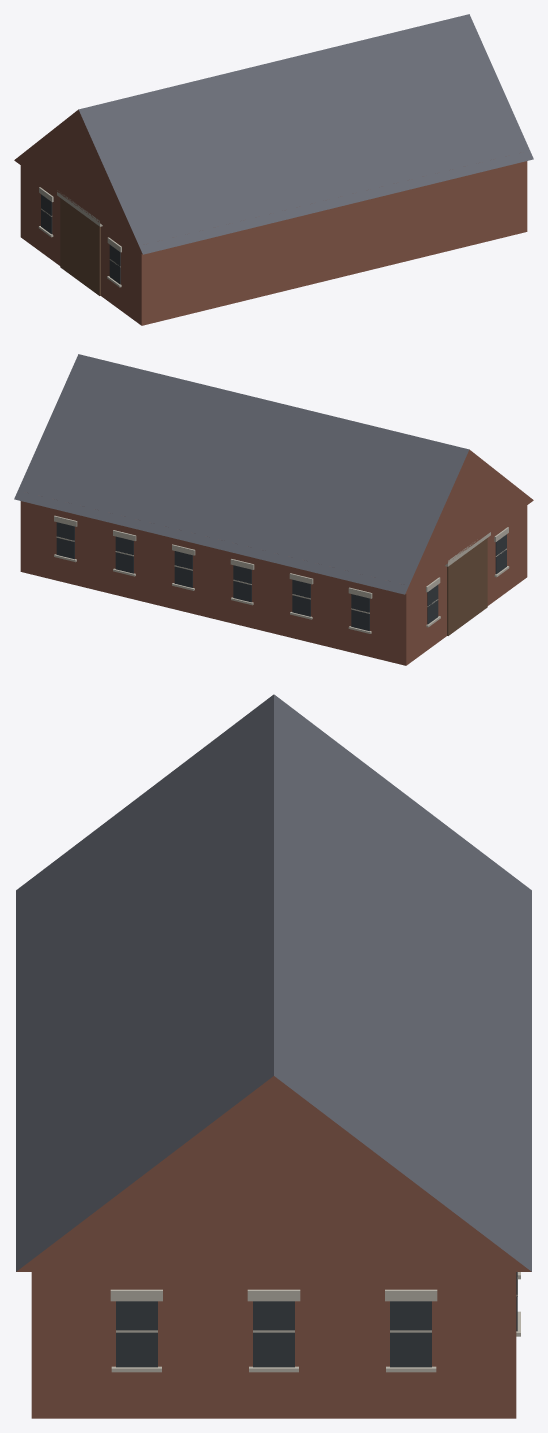
File: kellogg_house_1709_prairie_coach_house__draft_1904.glb
The picture shows the model from 3 angles, top to bottom: view 1: azimuth 30°, elevation 25°; view 2: azimuth 150°, elevation 25°; view 3: azimuth 270°, elevation 25°; orthographic projection. The views are drawn at different scales.
Visible parts, largest first — view 1: kellogg_house_1709_prairie_coach_house__draft_1904; view 2: kellogg_house_1709_prairie_coach_house__draft_1904; view 3: kellogg_house_1709_prairie_coach_house__draft_1904.
Part boxes in pixels (x1=…): kellogg_house_1709_prairie_coach_house__draft_1904: x1=14, y1=14, x2=533, y2=325; kellogg_house_1709_prairie_coach_house__draft_1904: x1=14, y1=354, x2=533, y2=665; kellogg_house_1709_prairie_coach_house__draft_1904: x1=16, y1=694, x2=531, y2=1418.
Size of the model in its own units: 17.24 by 7.28 by 9.85.
